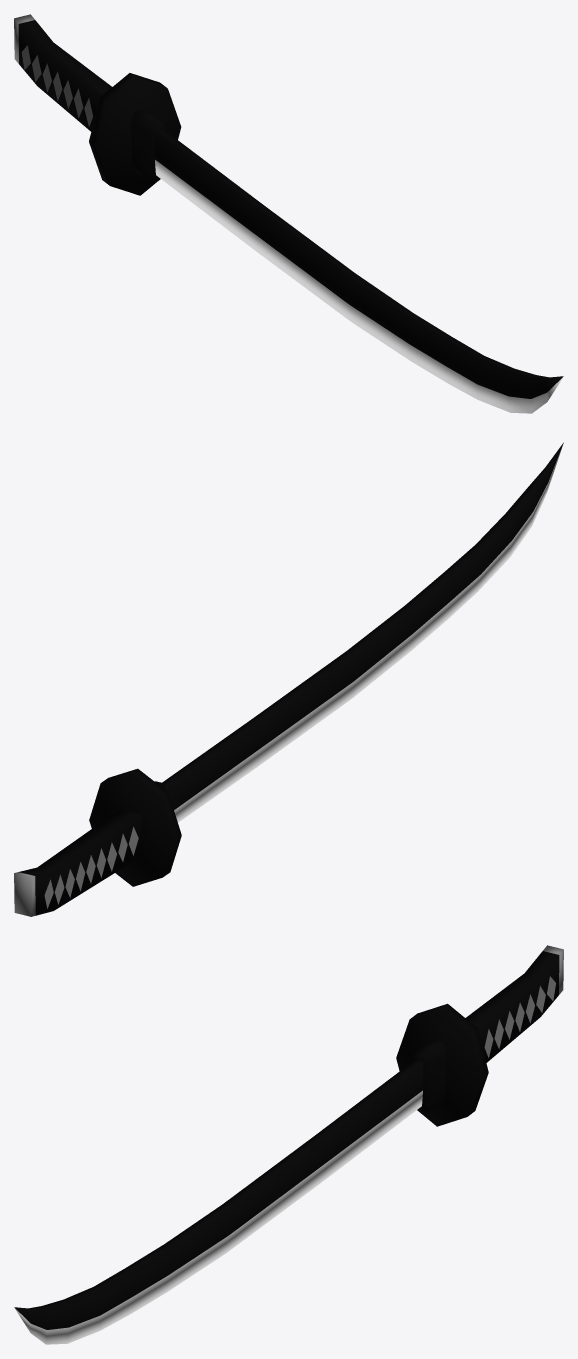
Rendered from W001_0100_Skin.FBX.
3 views of the same model, one above another, from view 1: azimuth 30°, elevation 25°; view 2: azimuth 150°, elevation 25°; view 3: azimuth 330°, elevation 25° (orthographic).
Visible parts, largest first — view 1: W001_0100; view 2: W001_0100; view 3: W001_0100.
Part boxes in pixels (x1,y1,x2,y2): W001_0100: (14, 14, 563, 413); W001_0100: (14, 442, 563, 916); W001_0100: (14, 945, 563, 1344).
Size of the model in its own units: 10.09 by 14.74 by 112.
